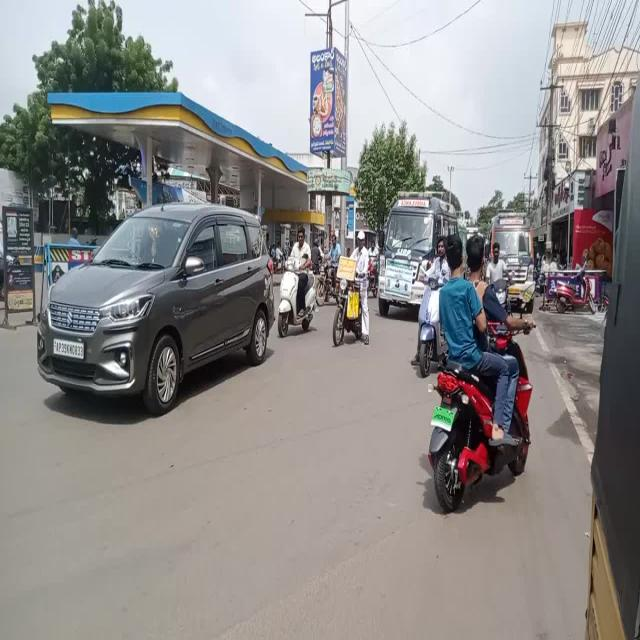ambulance: (373, 183, 452, 306)
